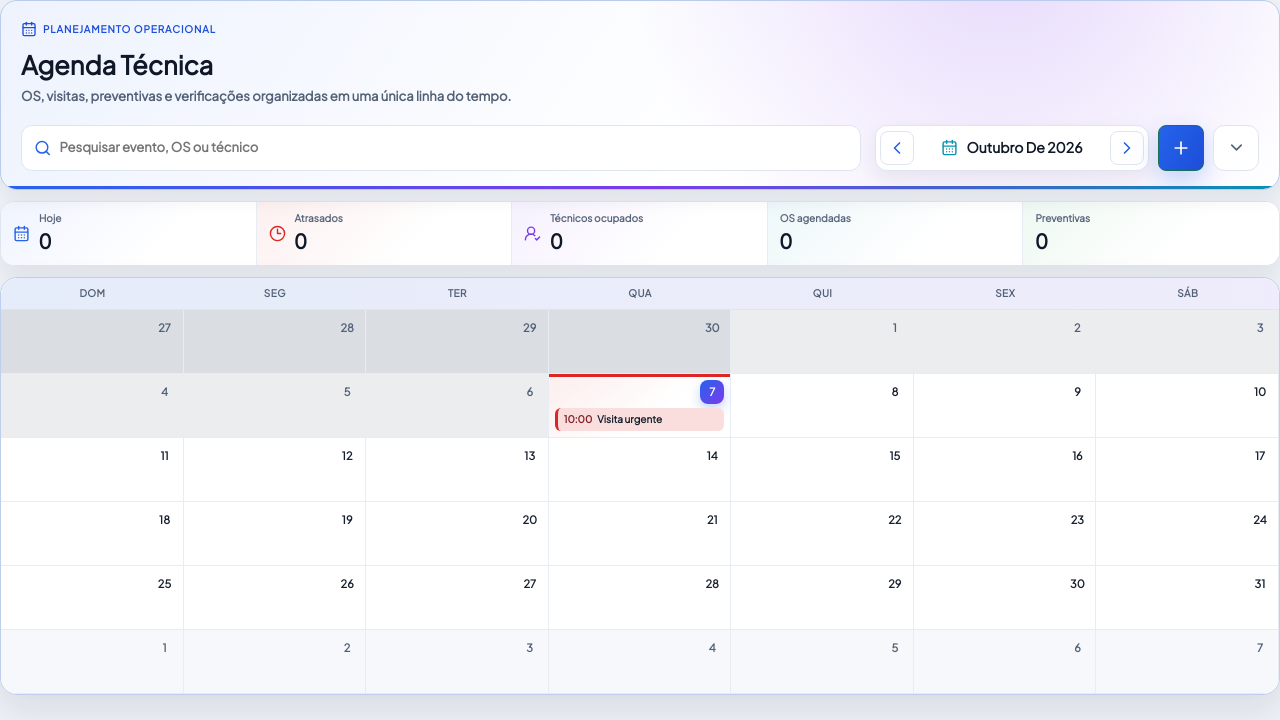
Scenario: TechnicalCalendarPage › abre edição sem disparar novo agendamento e colore o dia pela prioridade
The image size is (1280, 720).
Expected: the text "Visita urgente" is shown, [597,413,662,425]
Click the button with class "calendar-event": [640, 419] box [555,408,724,431]
(page scrolled)
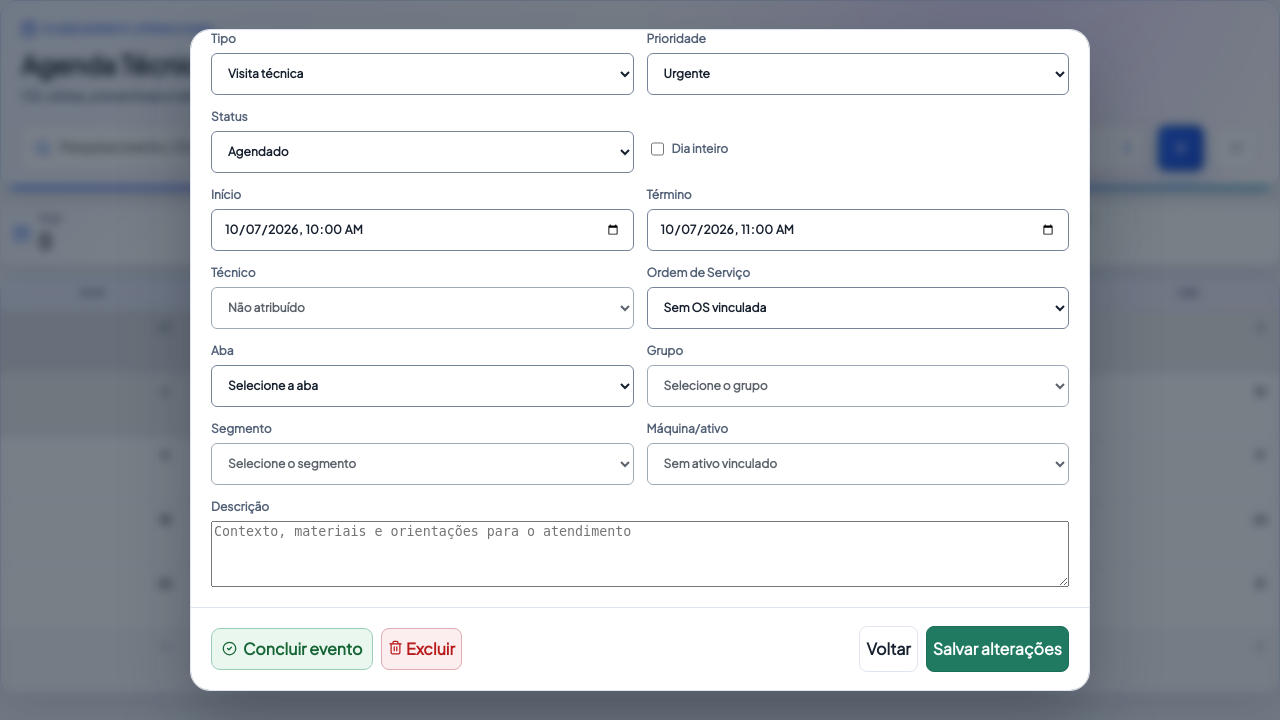
Result: the dialog "Editar agendamento" is shown
Result: the button "Excluir" is shown at [381,628,462,670]
